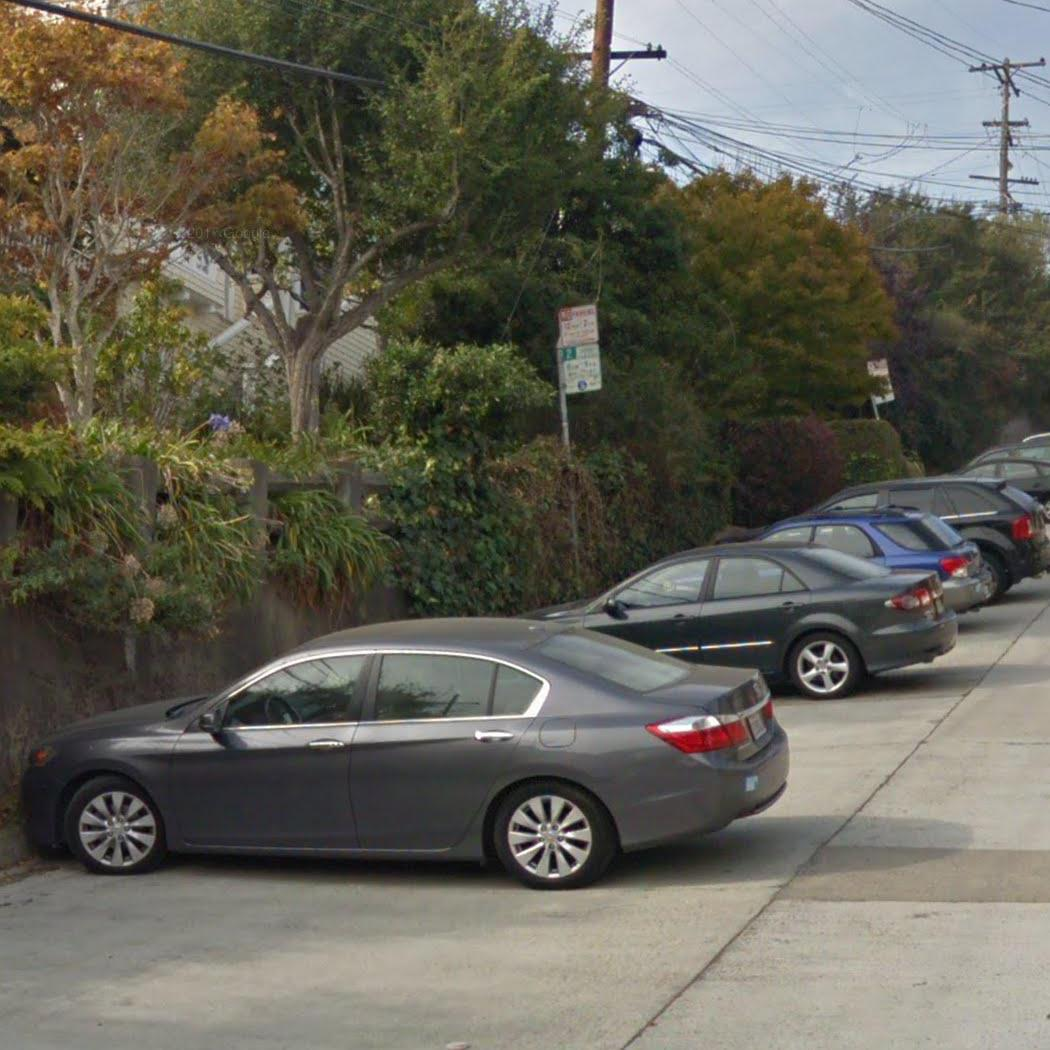2 Hour Parking: (561, 342, 604, 399)
No Parking: (557, 303, 603, 344)
